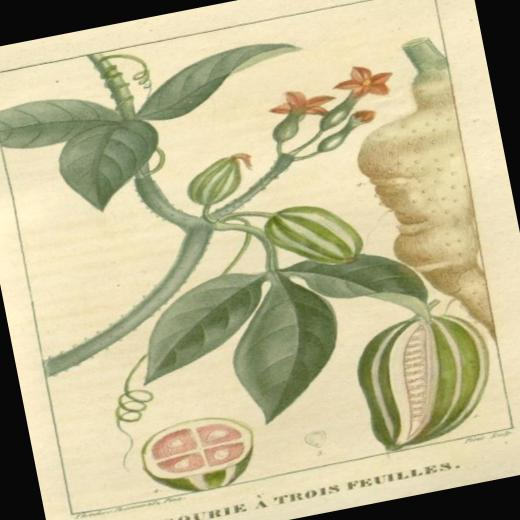Cherry: (346, 292, 499, 458), (137, 408, 258, 501)
